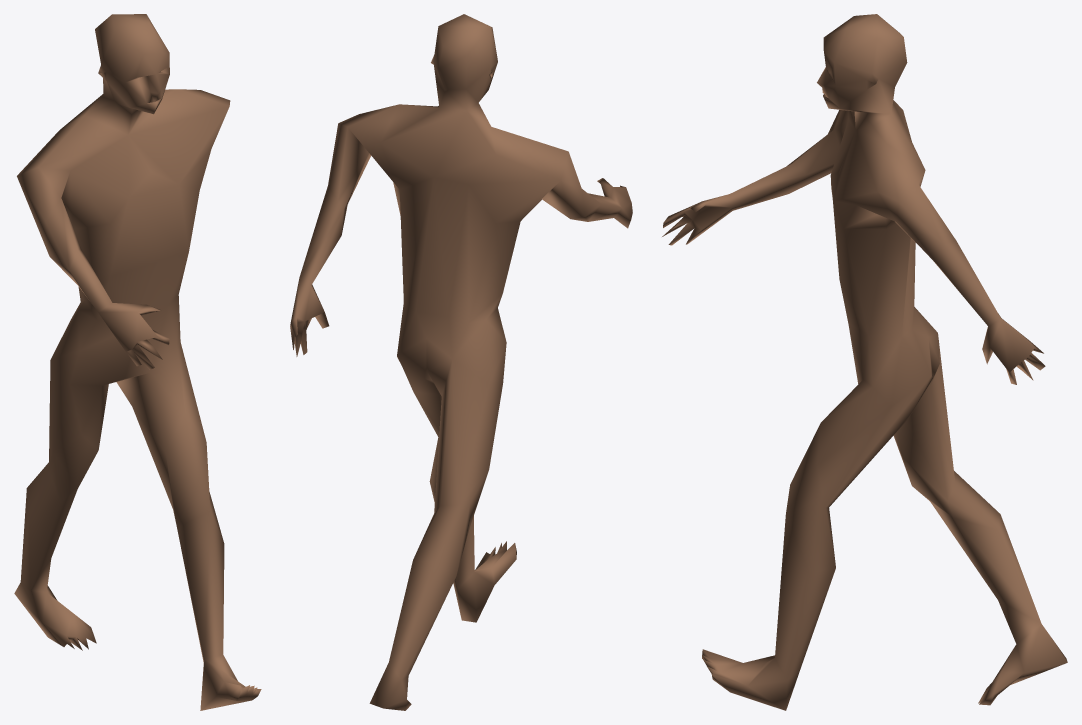
The model's file is obs_000054.obj.
3 renders of one model, left to right at view 1: azimuth 30°, elevation 25°; view 2: azimuth 150°, elevation 25°; view 3: azimuth 270°, elevation 25°, orthographic. The views are drawn at different scales.
Visible parts, largest first — view 1: 1-base_1-base.008; view 2: 1-base_1-base.008; view 3: 1-base_1-base.008.
Boxes of the visible parts, x1,y1,x2,y2 form: 1-base_1-base.008: (14,14,261,710); 1-base_1-base.008: (290,14,632,710); 1-base_1-base.008: (662,14,1067,710).
Size of the model in its own units: 0.4424 by 1.28 by 0.6981.
